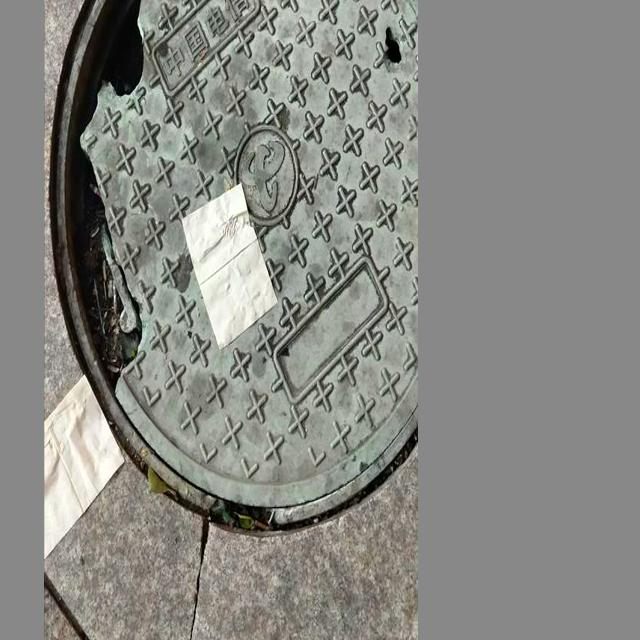broke: (52, 0, 412, 540)
